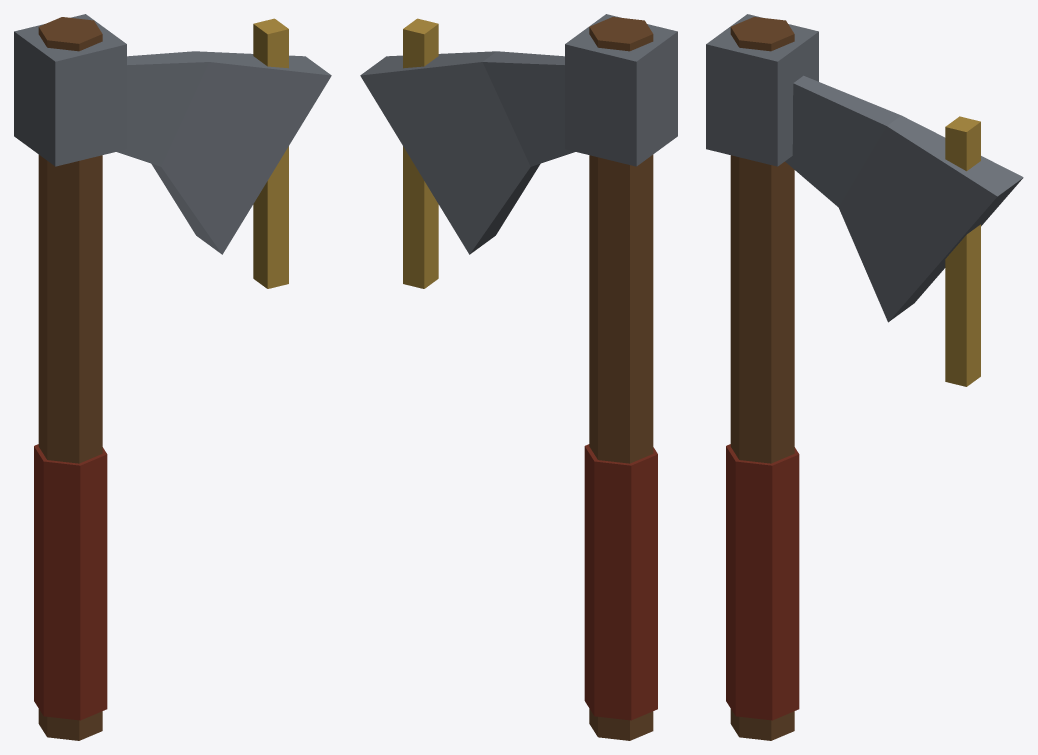
Rendered from weapon_twin_khopesh.glb.
The picture shows the model from 3 angles, left to right: view 1: azimuth 30°, elevation 25°; view 2: azimuth 150°, elevation 25°; view 3: azimuth 330°, elevation 25°; orthographic projection.
Visible parts, largest first — view 1: dwarf_weapon_twin_khopesh; view 2: dwarf_weapon_twin_khopesh; view 3: dwarf_weapon_twin_khopesh.
Part boxes in pixels (x1=…): dwarf_weapon_twin_khopesh: x1=14, y1=14, x2=331, y2=740; dwarf_weapon_twin_khopesh: x1=360, y1=14, x2=677, y2=740; dwarf_weapon_twin_khopesh: x1=706, y1=14, x2=1023, y2=740.
Size of the model in its own units: 0.2378 by 0.558 by 0.06.
